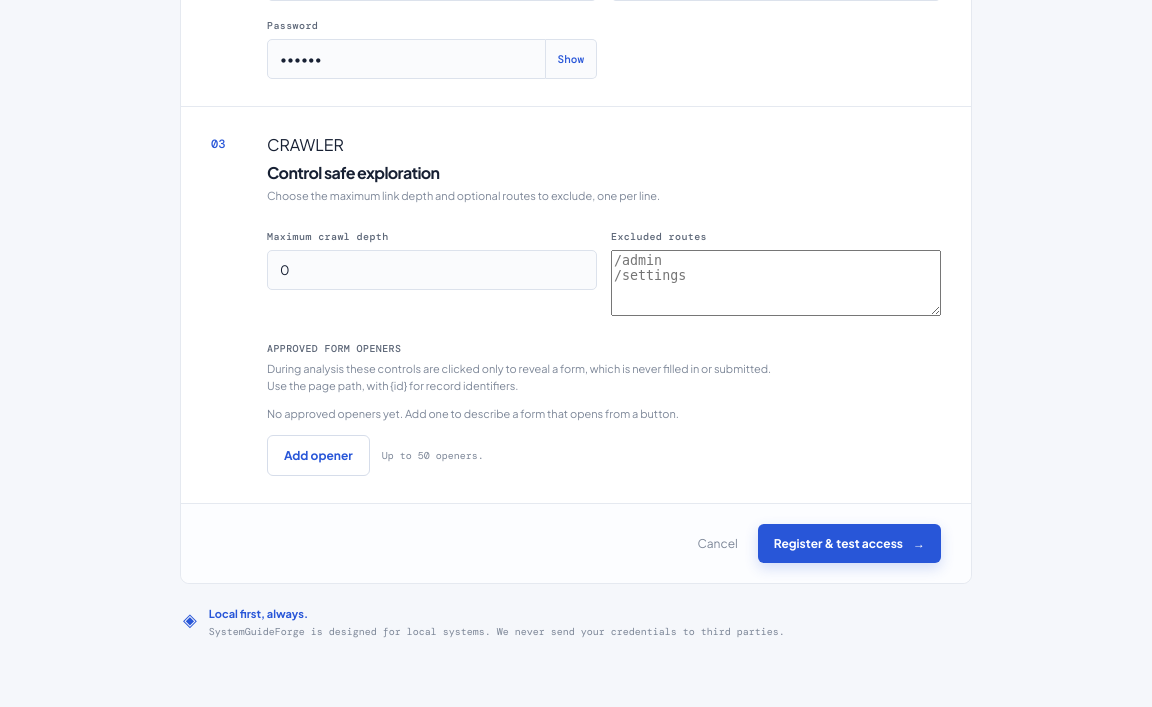
Test: RegistrationComponent crawler configuration › approved openers editor › shows an empty state until an opener is added
The image size is (1152, 707).
(page scrolled)
Click the button with class "opener-add": [318, 455] box [267,434,370,476]
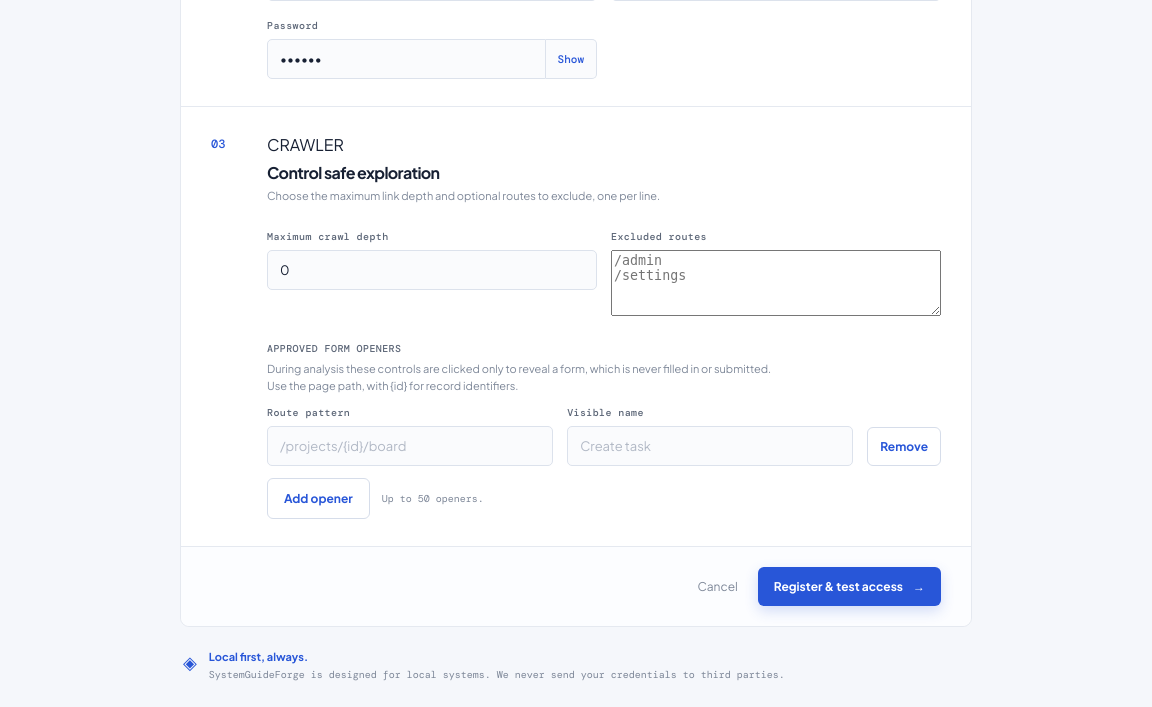
Check: the text with class "opener-empty" is gone
